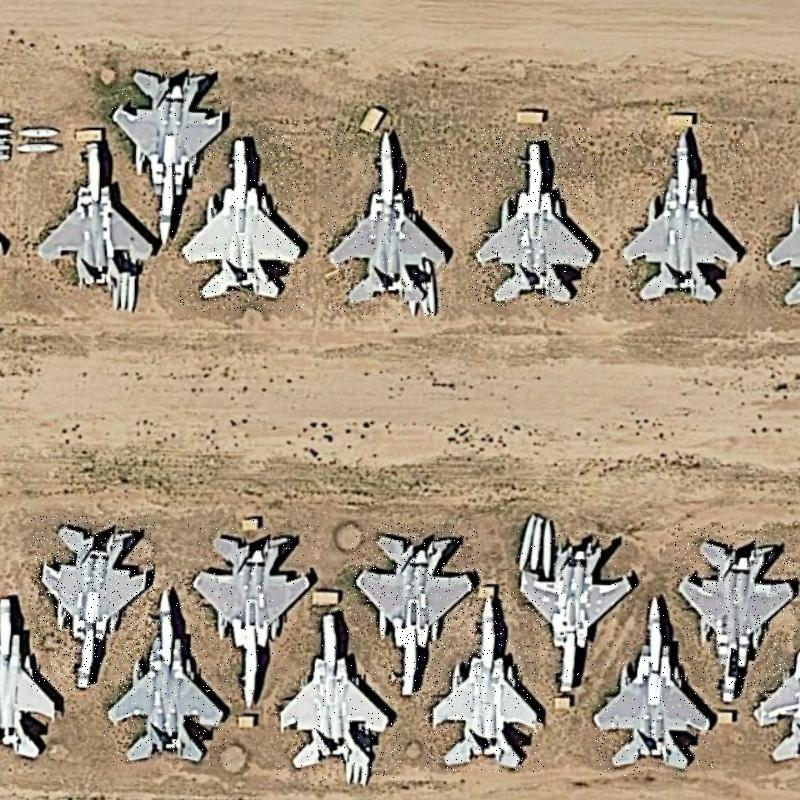A13: (188, 519, 322, 708), (324, 122, 451, 315), (180, 121, 305, 312), (347, 523, 481, 699), (620, 119, 745, 307), (104, 582, 232, 765), (470, 128, 598, 307), (273, 599, 401, 778), (423, 588, 545, 772), (110, 64, 233, 244), (31, 516, 155, 691), (595, 594, 714, 776), (29, 126, 158, 293), (675, 524, 797, 699), (517, 529, 642, 699)
